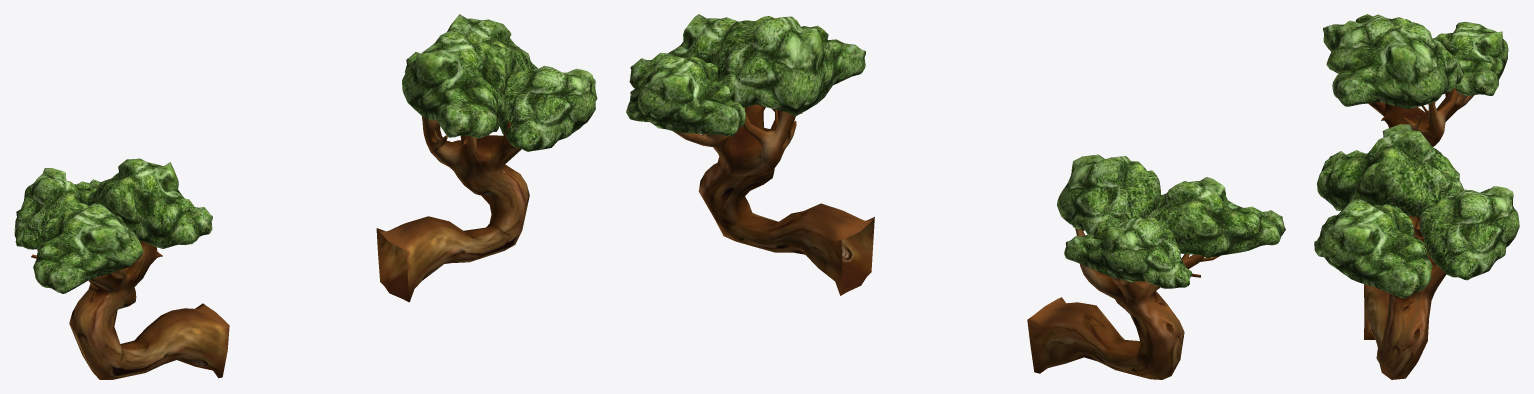
File: cactus_arms_bonsai_Mesh.obj
The picture shows the model from 3 angles, left to right: view 1: azimuth 30°, elevation 25°; view 2: azimuth 150°, elevation 25°; view 3: azimuth 270°, elevation 25°; orthographic projection. The views are drawn at different scales.
Parts seen in each view (by area): view 1: Bonsai_M; view 2: Bonsai_M; view 3: Bonsai_M.
Boxes of the visible parts, x1,y1,x2,y2 form: Bonsai_M: (14, 14, 597, 379); Bonsai_M: (626, 14, 1285, 379); Bonsai_M: (1314, 14, 1519, 379).
Bounding box in the file's own units: 2.24 × 0.9932 × 0.6697.
Materials: 1 (1 with a texture image).
